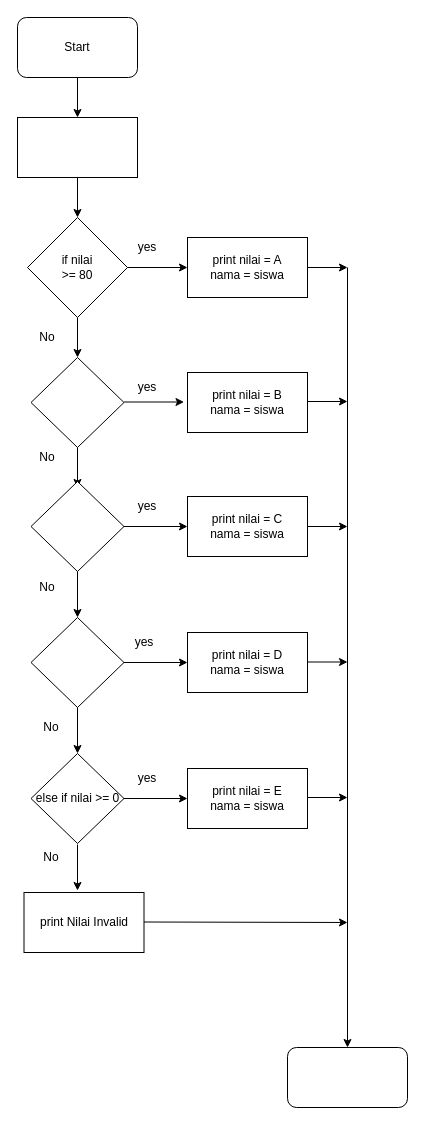
Image size: 425x1125. Some labels were removed from this diagram. Here are the shapes that lost their labels. From the top down, the centre of each, then its label:
point 77,147: Input nilai, siswa
point 77,402: else if nilai >= 65
point 77,526: else if nilai >= 50
point 77,662: else if nilai >= 35
point 347,1077: Finish
